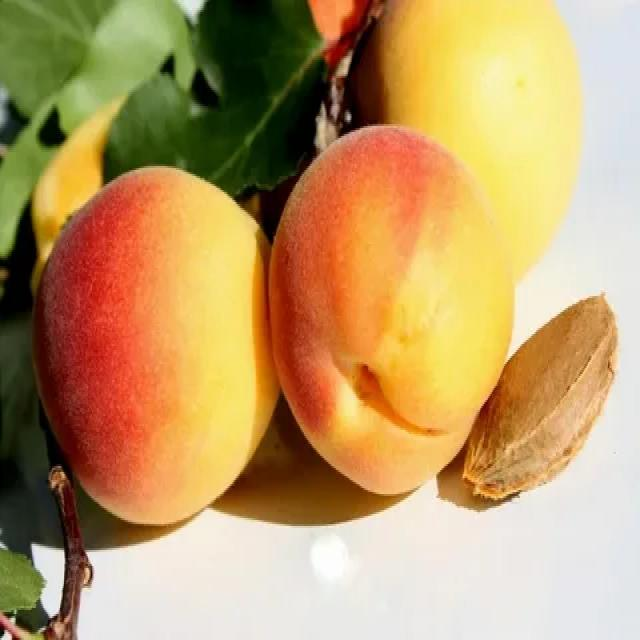Cekirdek: (463, 294, 617, 498)
Kayisi: (271, 126, 513, 492)
Yaprak: (105, 0, 327, 194)
